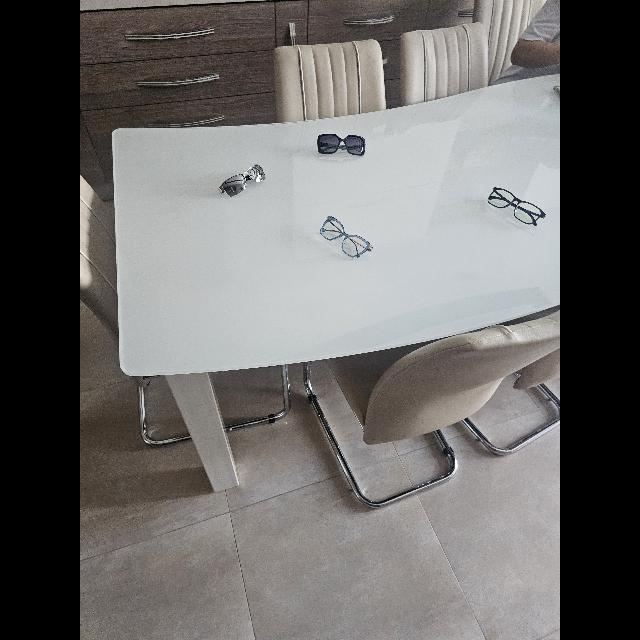Sunglasses: (218, 165, 266, 197), (317, 134, 365, 156)
glasses: (488, 188, 546, 226), (320, 216, 372, 258)
